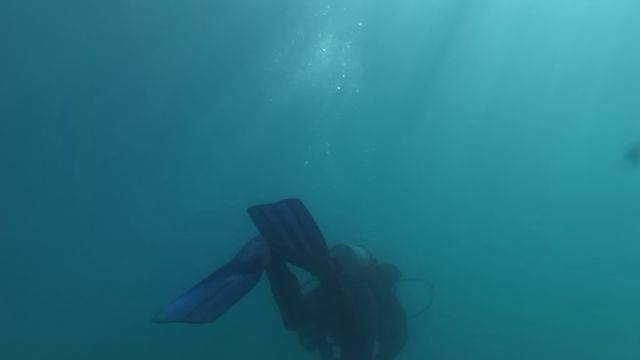Diver: (141, 187, 424, 350)
